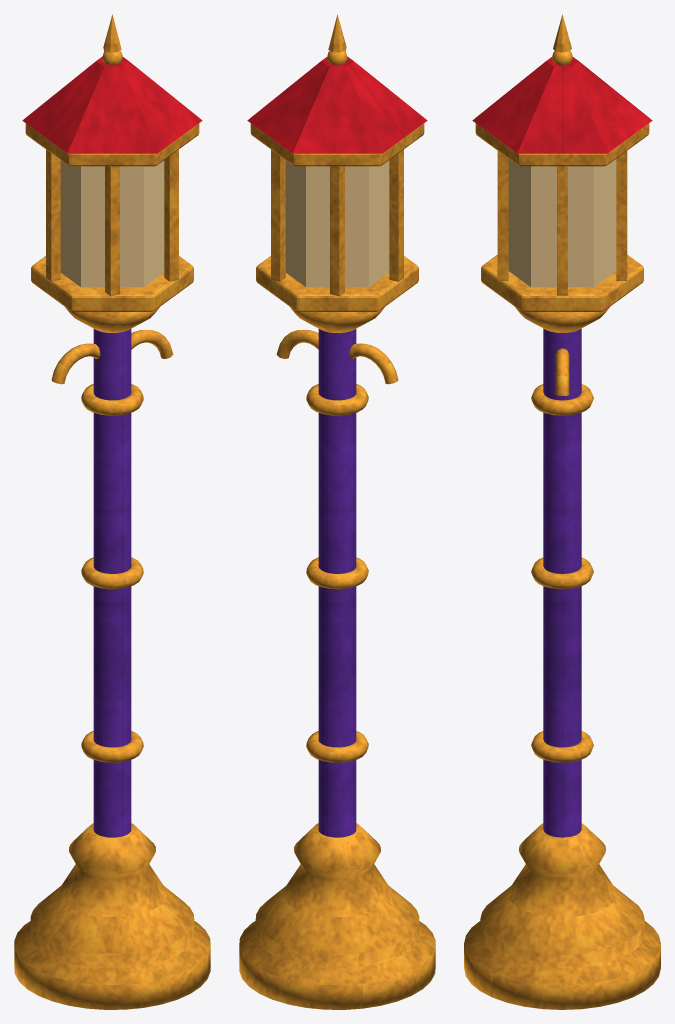
File: CHO_StreetLamp.fbx
The picture shows the model from 3 angles, left to right: view 1: azimuth 30°, elevation 25°; view 2: azimuth 150°, elevation 25°; view 3: azimuth 270°, elevation 25°; orthographic projection.
Visible parts, largest first — view 1: CHO_StreetLamp; view 2: CHO_StreetLamp; view 3: CHO_StreetLamp.
Part boxes in pixels (x1=…): CHO_StreetLamp: x1=14, y1=14, x2=210, y2=1009; CHO_StreetLamp: x1=239, y1=14, x2=435, y2=1009; CHO_StreetLamp: x1=464, y1=14, x2=660, y2=1009.
Bounding box in the file's own units: 0.72 × 3.85 × 0.72.
